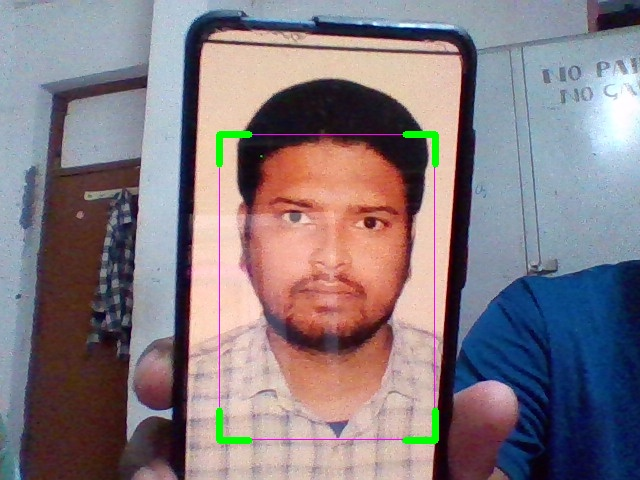fake: (219, 134, 435, 440)
